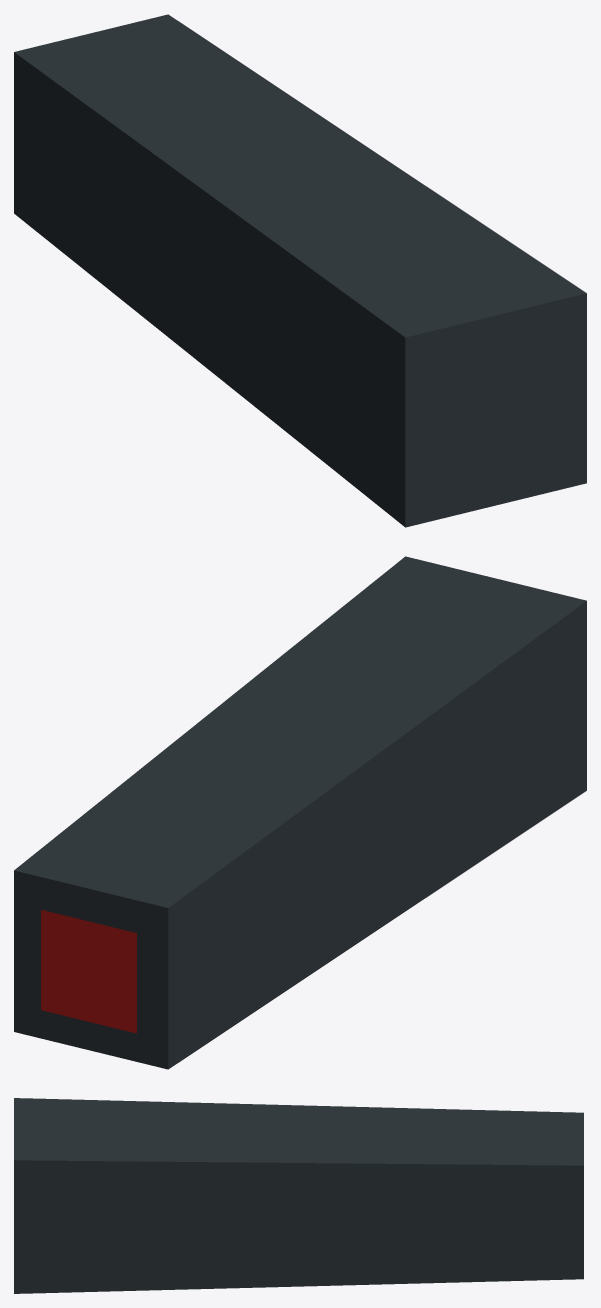
3 views of the same model, one above another, from view 1: azimuth 30°, elevation 25°; view 2: azimuth 150°, elevation 25°; view 3: azimuth 270°, elevation 25° (orthographic). The views are drawn at different scales.
Visible parts, largest first — view 1: mount; view 2: mount; view 3: mount.
Part boxes in pixels (<box>): mount: <box>14,14,586,527</box>; mount: <box>14,556,586,1069</box>; mount: <box>14,1098,583,1293</box>.
Bounding box in the file's own units: 1.41 × 1.41 × 5.49.
